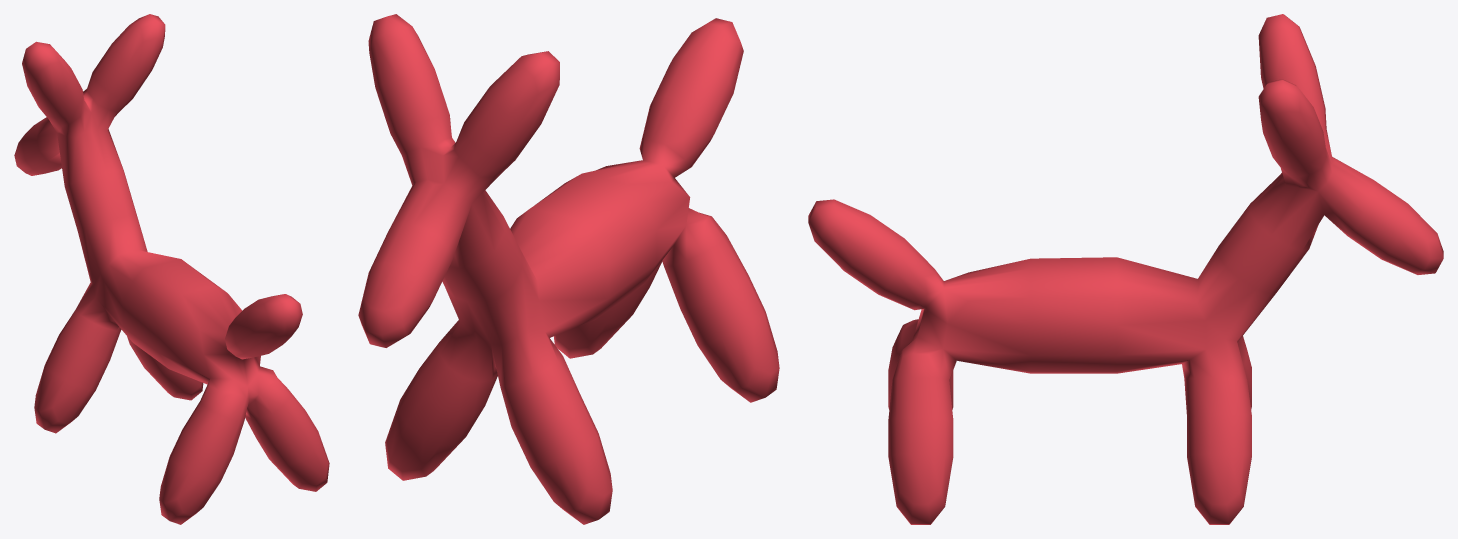
The model's file is balloondog.fbx.
The picture shows the model from 3 angles, left to right: view 1: azimuth 30°, elevation 25°; view 2: azimuth 150°, elevation 25°; view 3: azimuth 270°, elevation 25°; orthographic projection. The views are drawn at different scales.
Visible parts, largest first — view 1: Cube.002; view 2: Cube.002; view 3: Cube.002.
Part boxes in pixels (x1,y1,x2,y2): Cube.002: (14, 14, 329, 524); Cube.002: (358, 14, 779, 524); Cube.002: (808, 14, 1443, 524).
Bounding box in the file's own units: 53.49 × 114 × 150.
